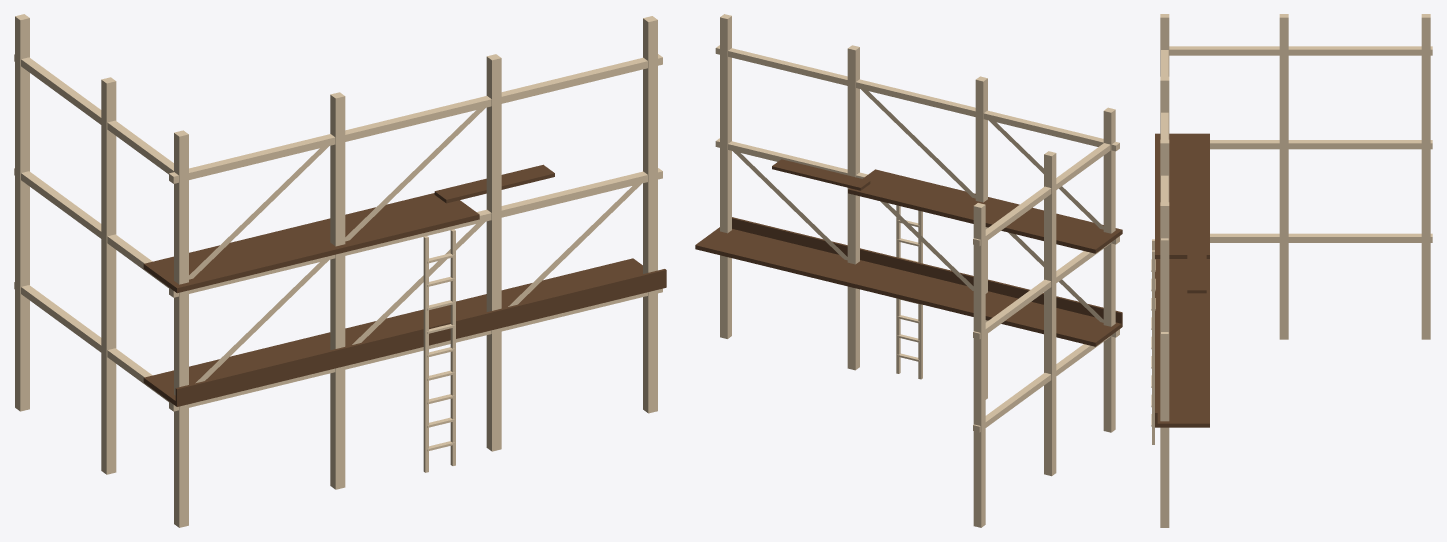
File: andaime_madeira.glb
3 renders of one model, left to right at view 1: azimuth 30°, elevation 25°; view 2: azimuth 150°, elevation 25°; view 3: azimuth 270°, elevation 25°, orthographic. The views are drawn at different scales.
Visible parts, largest first — view 1: Malha_0; view 2: Malha_0; view 3: Malha_0.
Boxes of the visible parts, bbox=[...] form: Malha_0: bbox=[14, 14, 666, 527]; Malha_0: bbox=[695, 14, 1122, 527]; Malha_0: bbox=[1151, 14, 1432, 527].
Size of the model in its own units: 7.2 by 5.5 by 4.36.
